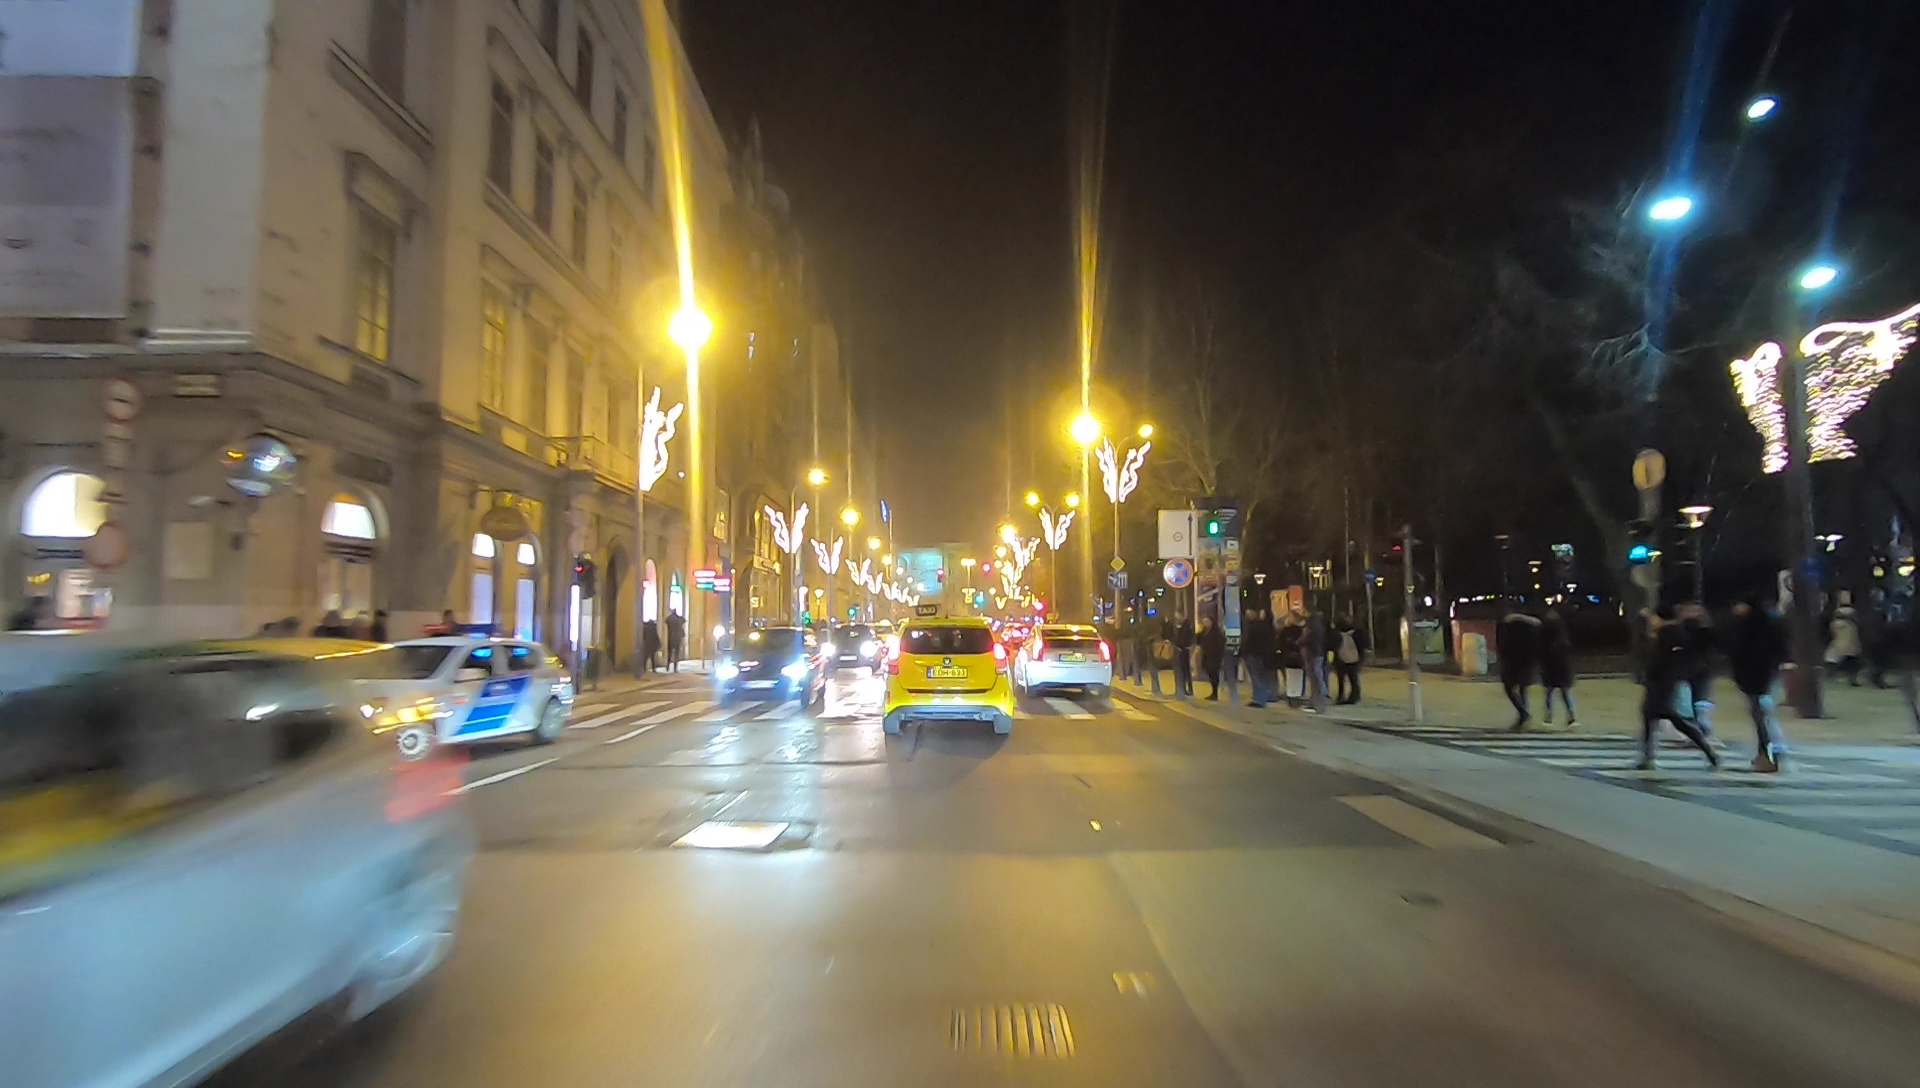person: (1639, 608, 1704, 780), (1736, 604, 1789, 773), (1671, 587, 1723, 741), (1489, 587, 1534, 736), (1534, 606, 1584, 737), (1239, 599, 1276, 710), (1332, 608, 1367, 708), (1299, 606, 1326, 706), (1193, 619, 1226, 702), (1164, 623, 1186, 695)
